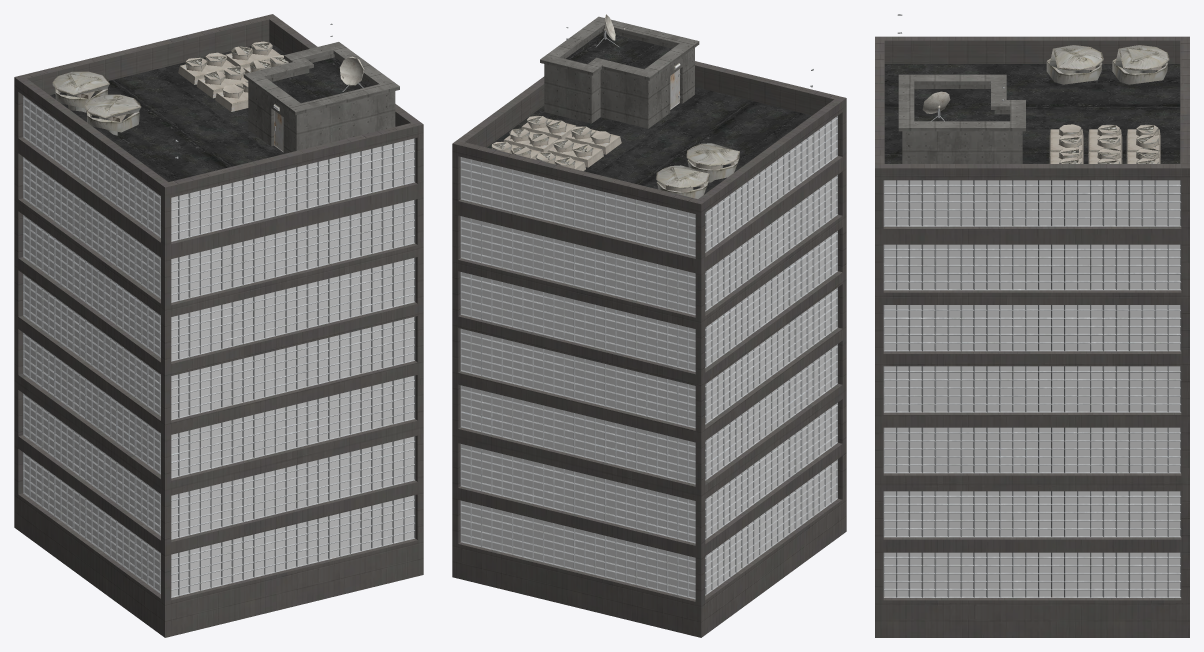
File: KB3D_NEC_BldgLG_A_BuildingC.glb
The picture shows the model from 3 angles, left to right: view 1: azimuth 30°, elevation 25°; view 2: azimuth 150°, elevation 25°; view 3: azimuth 270°, elevation 25°; orthographic projection. The views are drawn at different scales.
Parts seen in each view (by area): view 1: KB3D_NEC_BldgLG_A_BuildingC; view 2: KB3D_NEC_BldgLG_A_BuildingC; view 3: KB3D_NEC_BldgLG_A_BuildingC.
Part boxes in pixels (left/top/right/bottom): KB3D_NEC_BldgLG_A_BuildingC: left=14, top=14, right=423, bottom=637; KB3D_NEC_BldgLG_A_BuildingC: left=452, top=14, right=846, bottom=637; KB3D_NEC_BldgLG_A_BuildingC: left=875, top=14, right=1189, bottom=637.
Size of the model in its own units: 11.27 by 21.37 by 11.39.
Materials: 9 (8 with a texture image).
